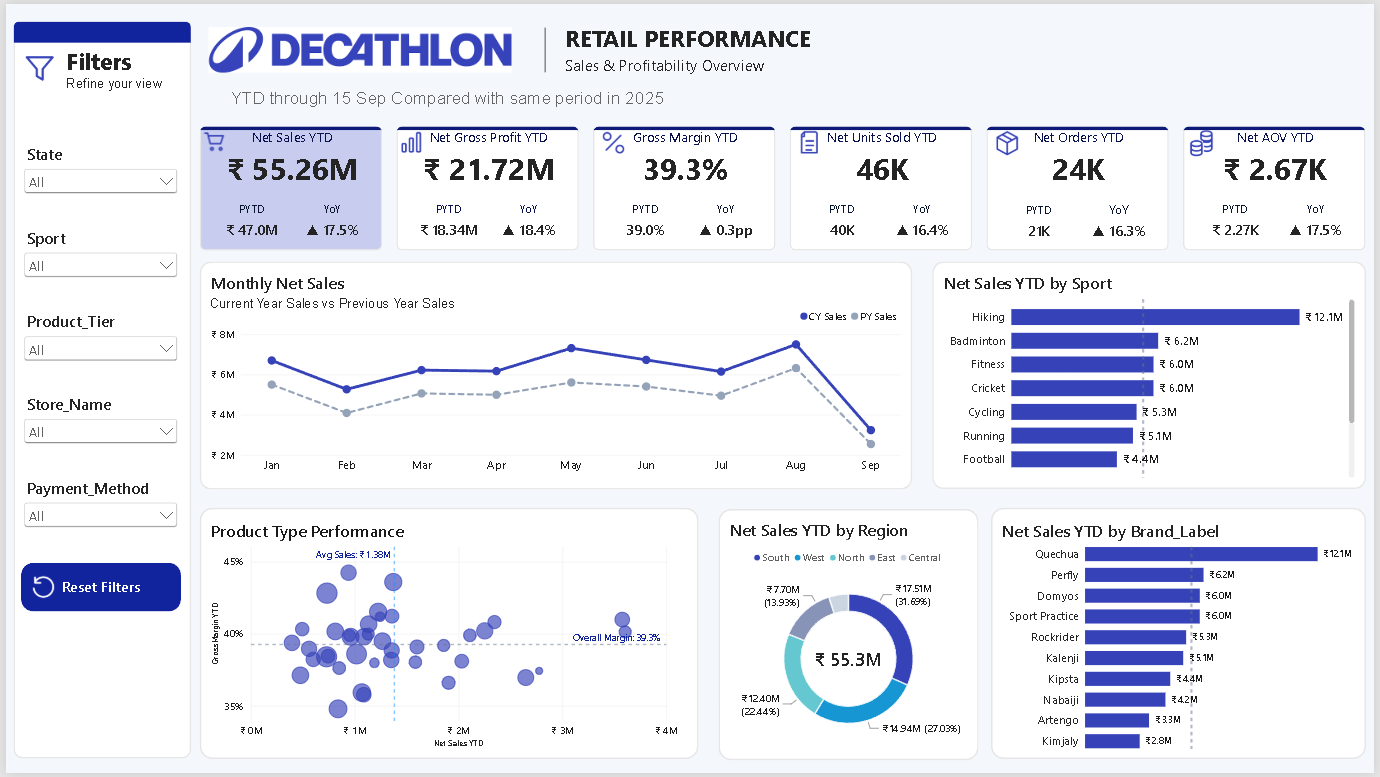

What the dashboard file says about the page in this screenshot:
{"tool":"powerbi","page":{"name":"Page 1","canvas":[1920,1080],"ordinal":0},"visuals":[{"type":"shape","box":[10.5,24.4,249.4,1034.3],"z":0},{"type":"image","box":[284.3,12.2,425.6,104.7],"z":1000},{"type":"textbox","box":[784.9,26.2,366.3,78.5],"z":2000},{"type":"shape","box":[709.9,33.1,92.4,62.8],"z":3000},{"type":"textbox","box":[315.7,116.9,701.2,55.8],"z":4000},{"type":"cardVisual","fields":{"Data":["sales.Net Sales YTD","sales.Net Gross Profit YTD","sales.Gross Margin YTD","sales.Net Units Sold YTD","sales.Net Orders YTD","sales.Net AOV YTD"]},"box":[272.1,172.7,1636.1,174.4],"z":5000},{"type":"image","box":[272.1,172.7,43.6,45.3],"z":6000},{"type":"image","box":[547.7,172.7,45.3,45.3],"z":7000},{"type":"image","box":[830.2,172.7,45.3,45.3],"z":8000},{"type":"image","box":[1105.8,172.7,45.3,45.3],"z":9000},{"type":"image","box":[1383.1,172.7,45.3,45.3],"z":10000},{"type":"image","box":[1655.2,172.7,45.3,45.3],"z":11000},{"type":"shape","box":[271.9,361.4,1000,320],"z":12000},{"type":"lineChart","title":"Monthly Net Sales","fields":{"Category":["Date_Table.Month"],"Y":["sales.CY Sales","sales.PY Sales"]},"box":[271.9,361.4,1000,319.3],"z":14000},{"type":"textbox","box":[286,410.5,441,30],"z":14001},{"type":"shape","box":[1300,361.4,608.8,319.3],"z":14002},{"type":"clusteredBarChart","fields":{"Category":["products.Sport"],"Y":["sales.Net Sales YTD"]},"box":[1300,361.4,608.8,319.3],"z":14003},{"type":"shape","box":[271.9,707,700,352.6],"z":14004},{"type":"scatterChart","title":"Product Type Performance","fields":{"Category":["products.Product_Type"],"Size":["sales.Net Orders YTD"],"X":["sales.Net Sales YTD"],"Y":["sales.Gross Margin YTD"]},"box":[271.9,708.8,687.7,350.9],"z":14005},{"type":"shape","box":[1000,708.8,365,352.6],"z":14006},{"type":"donutChart","fields":{"Category":["store.Region"],"Y":["sales.Net Sales YTD"]},"box":[1000,707,364.9,354.4],"z":14007},{"type":"shape","box":[1382.5,707,526.3,352.6],"z":14008},{"type":"clusteredBarChart","fields":{"Category":["products.Brand_Label"],"Y":["sales.Net Sales YTD"]},"box":[1382.5,708.8,526.3,352.6],"z":14009},{"type":"shape","box":[10.5,24.6,249.1,30],"z":14010},{"type":"image","box":[10.5,64.9,73.7,52.6],"z":14011},{"type":"textbox","box":[84.2,57.9,168.4,64.9],"z":14012},{"type":"slicer","fields":{"Values":["store.State"]},"box":[21.1,194.7,224.6,91.2],"z":14013},{"type":"slicer","fields":{"Values":["products.Sport"]},"box":[21.1,311.8,224.6,91.2],"z":14014},{"type":"slicer","fields":{"Values":["products.Product_Tier"]},"box":[21.1,428.9,224.6,91.2],"z":14015},{"type":"slicer","fields":{"Values":["store.Store_Name"]},"box":[21.1,546.1,224.6,91.2],"z":14016},{"type":"slicer","fields":{"Values":["sales.Payment_Method"]},"box":[21.1,663.2,224.6,91.2],"z":14017},{"type":"actionButton","box":[21.1,784.2,224.6,68.4],"z":14018},{"type":"image","box":[21.1,798.2,63.2,43.9],"z":14019}]}

Visuals, with their boxes in screenshot pixels (x1, y1, x2, y2), scaled from the page's 1920x1080 canvas onto the 1380x777 screenshot:
shape: locate(8, 18, 187, 762)
image: locate(204, 9, 510, 84)
textbox: locate(564, 19, 827, 75)
shape: locate(510, 24, 577, 69)
textbox: locate(227, 84, 731, 124)
cardVisual - sales.Net Sales YTD x sales.Net Gross Profit YTD: locate(196, 124, 1372, 250)
image: locate(196, 124, 227, 157)
image: locate(394, 124, 426, 157)
image: locate(597, 124, 629, 157)
image: locate(795, 124, 827, 157)
image: locate(994, 124, 1027, 157)
image: locate(1190, 124, 1222, 157)
shape: locate(195, 260, 914, 490)
"Monthly Net Sales" lineChart: locate(195, 260, 914, 490)
textbox: locate(206, 295, 523, 317)
shape: locate(934, 260, 1372, 490)
clusteredBarChart - products.Sport x sales.Net Sales YTD: locate(934, 260, 1372, 490)
shape: locate(195, 509, 699, 762)
"Product Type Performance" scatterChart: locate(195, 510, 690, 762)
shape: locate(719, 510, 981, 764)
donutChart - store.Region x sales.Net Sales YTD: locate(719, 509, 981, 764)
shape: locate(994, 509, 1372, 762)
clusteredBarChart - products.Brand_Label x sales.Net Sales YTD: locate(994, 510, 1372, 764)
shape: locate(8, 18, 187, 39)
image: locate(8, 47, 61, 85)
textbox: locate(61, 42, 182, 88)
slicer - store.State: locate(15, 140, 177, 206)
slicer - products.Sport: locate(15, 224, 177, 290)
slicer - products.Product_Tier: locate(15, 309, 177, 374)
slicer - store.Store_Name: locate(15, 393, 177, 459)
slicer - sales.Payment_Method: locate(15, 477, 177, 543)
actionButton: locate(15, 564, 177, 613)
image: locate(15, 574, 61, 606)
